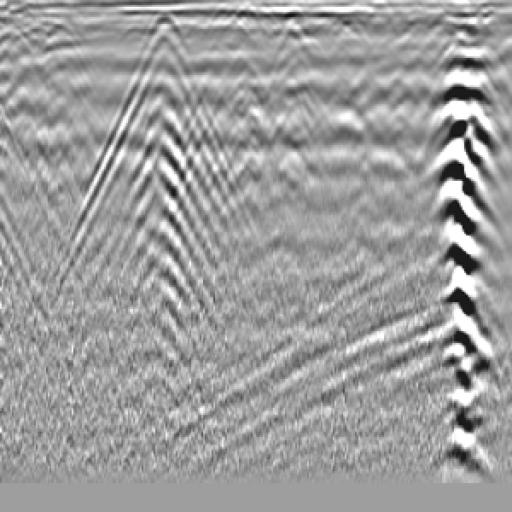metalic: (288, 62, 408, 289)
